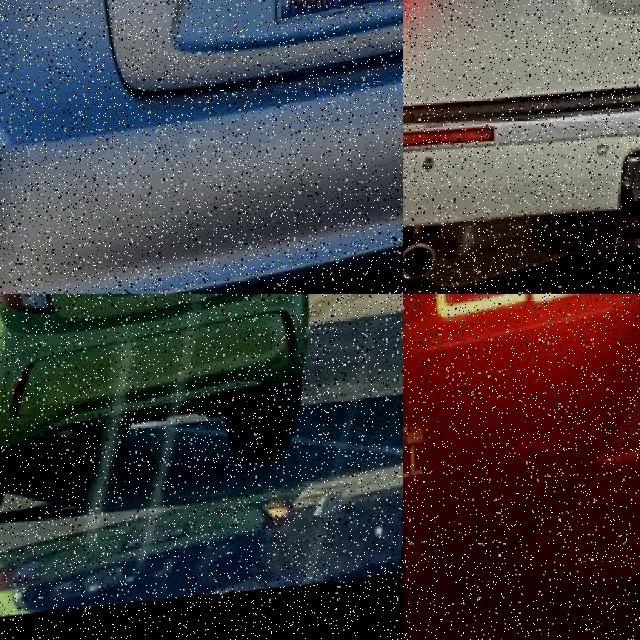licenseplate: (403, 427, 436, 499)
